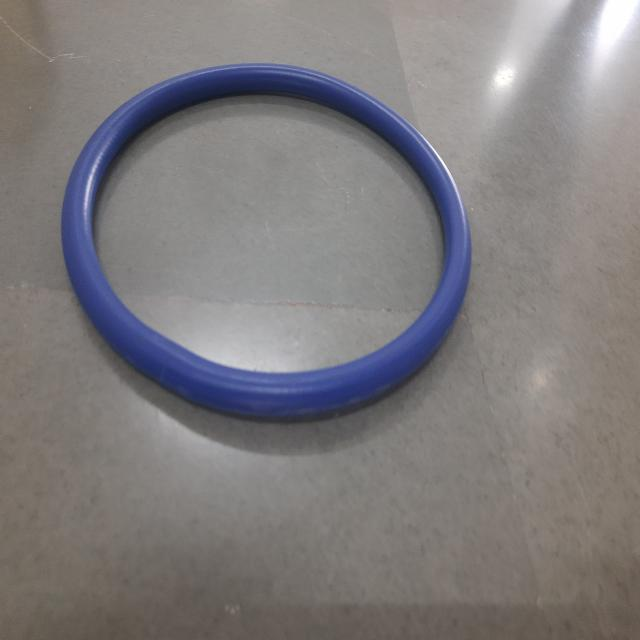daire: (67, 61, 475, 416)
